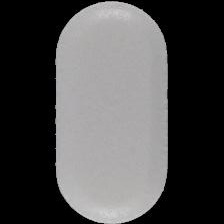50090-0833: (0, 0, 224, 224)
